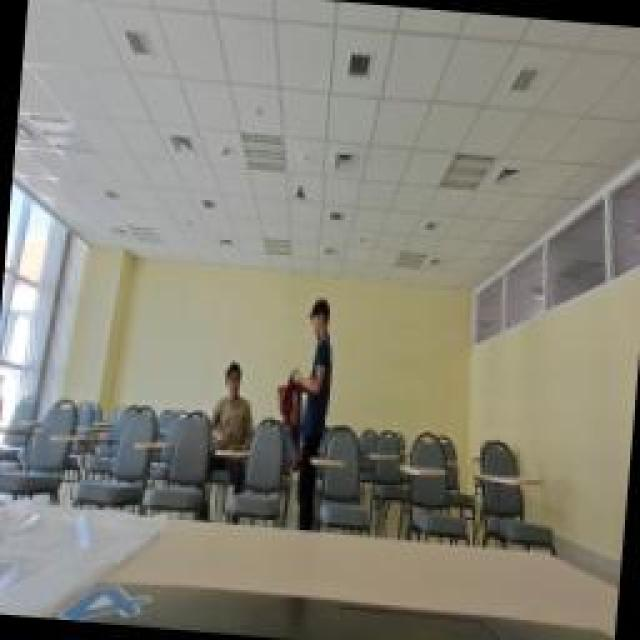study: (205, 358, 260, 450)
